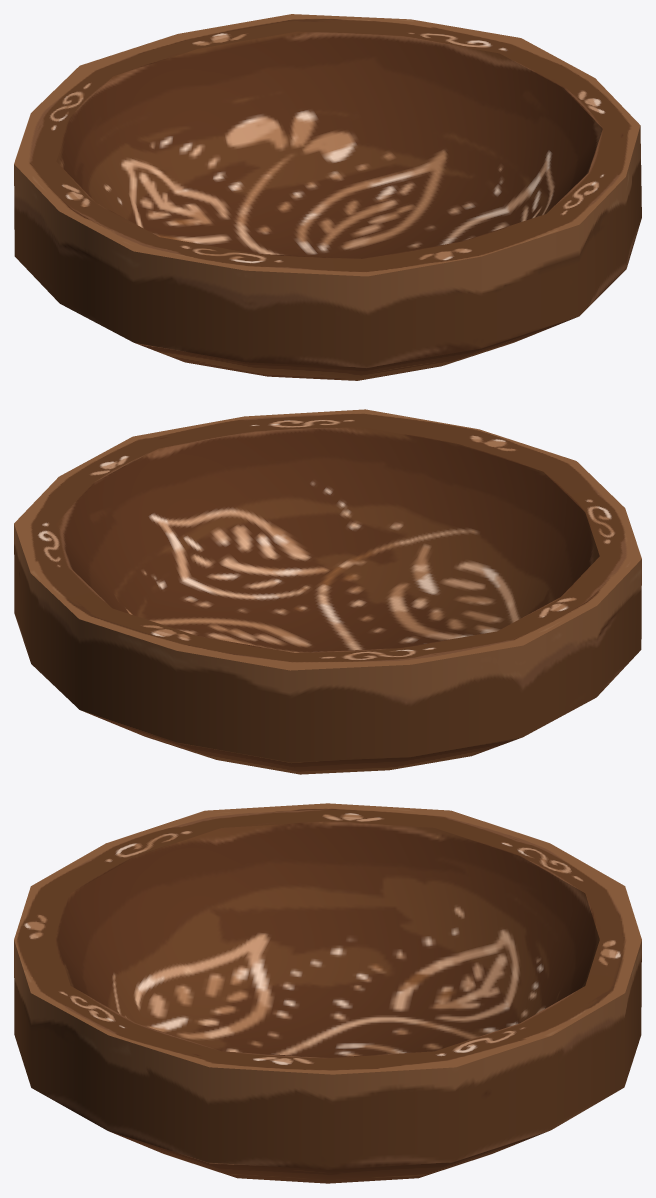
File: SM_PROP_plate_dungeon_05.fbx
The picture shows the model from 3 angles, top to bottom: view 1: azimuth 30°, elevation 25°; view 2: azimuth 150°, elevation 25°; view 3: azimuth 270°, elevation 25°; orthographic projection. The views are drawn at different scales.
Parts seen in each view (by area): view 1: SM_PROP_plate_dungeon_05; view 2: SM_PROP_plate_dungeon_05; view 3: SM_PROP_plate_dungeon_05.
Boxes of the visible parts, x1,y1,x2,y2 form: SM_PROP_plate_dungeon_05: (14,14,641,380); SM_PROP_plate_dungeon_05: (14,409,641,774); SM_PROP_plate_dungeon_05: (14,803,641,1183).
Bounding box in the file's own units: 19.44 × 4.8 × 19.
